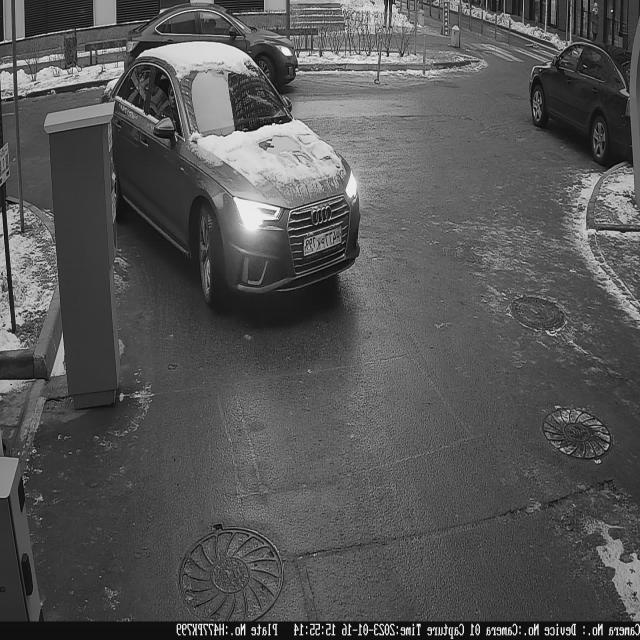car-plate-numbers: (302, 223, 344, 263)
